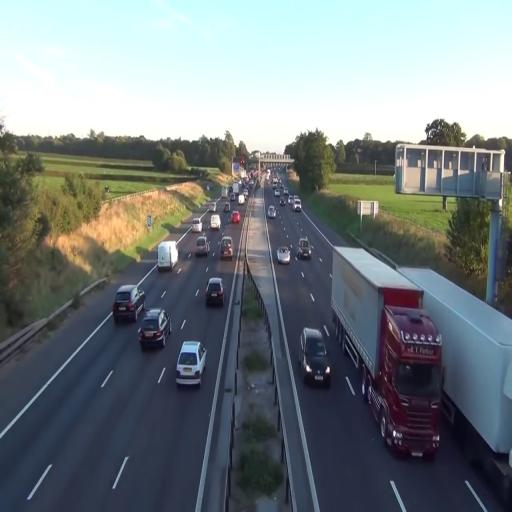vehicle: (330, 244, 444, 460), (300, 326, 332, 389), (138, 308, 171, 352), (176, 340, 206, 388), (113, 284, 145, 325), (158, 240, 178, 273), (205, 277, 224, 309), (297, 237, 313, 260), (195, 235, 209, 257), (276, 244, 291, 264), (266, 204, 278, 221), (291, 198, 301, 212)
